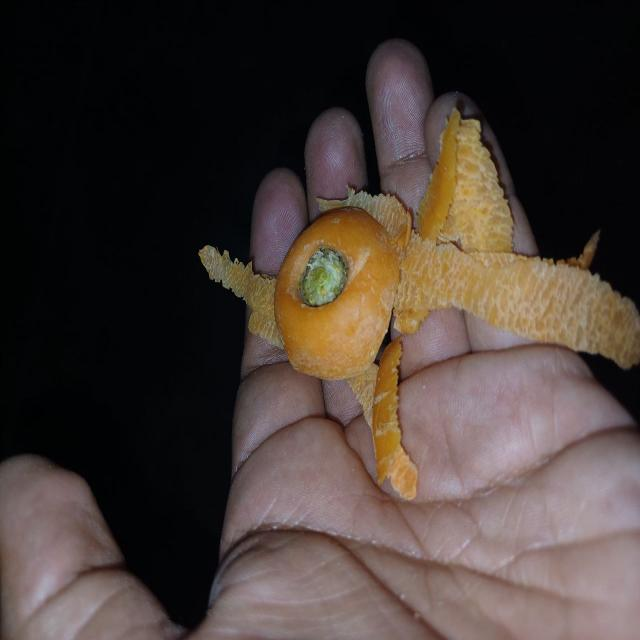organic: (198, 108, 640, 501)
